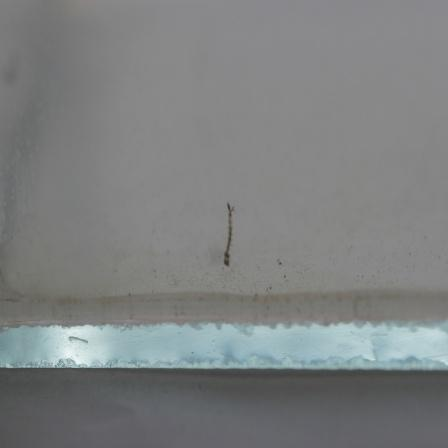Jentik-Nyamuk: (217, 198, 237, 272)
